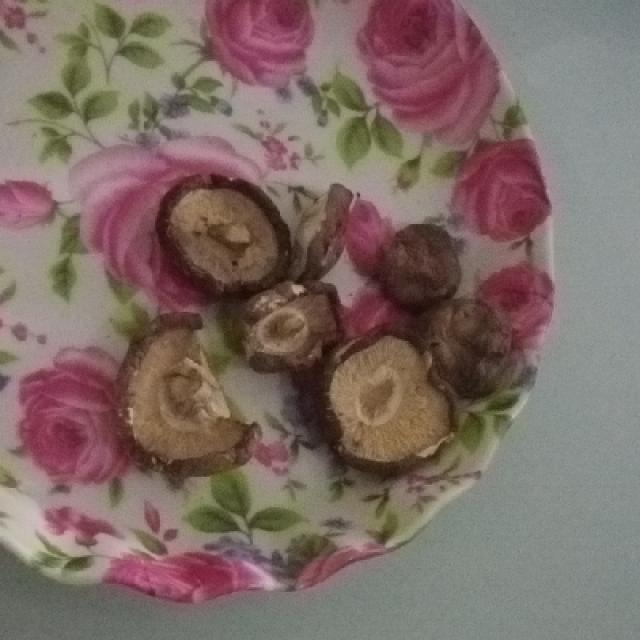Lentinus edodes: (116, 313, 261, 476), (325, 326, 458, 466), (160, 169, 294, 295), (246, 288, 345, 372), (434, 299, 512, 396), (376, 222, 462, 306)
